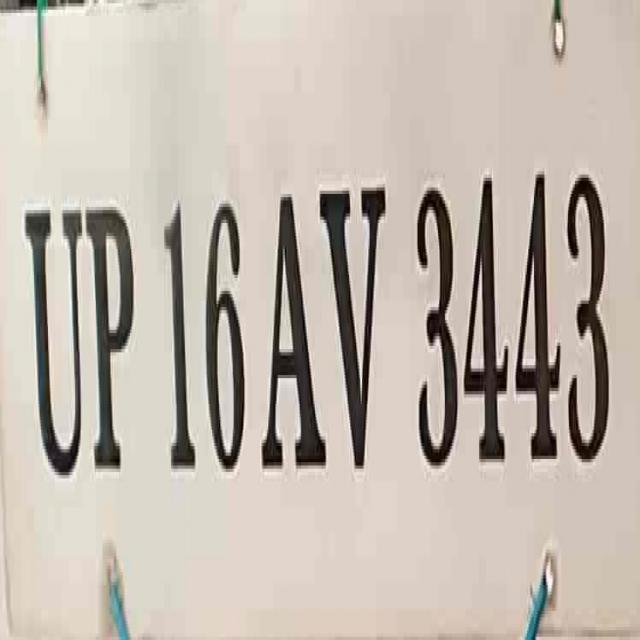1: (160, 192, 200, 484)
3: (414, 150, 464, 500), (564, 142, 612, 474)
4: (512, 150, 564, 494), (462, 152, 512, 480)
6: (204, 187, 248, 488)
A: (258, 170, 332, 508)
P: (84, 187, 138, 492)
U: (23, 180, 86, 502)
V: (320, 127, 394, 498)
